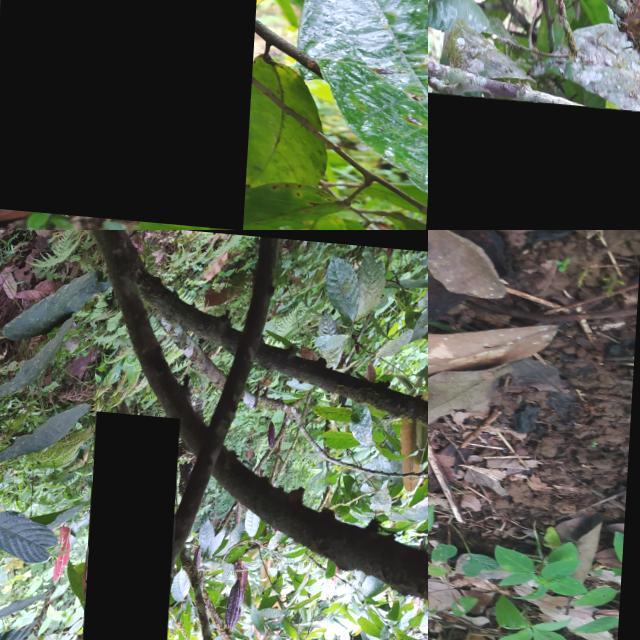Fitoftora: (0, 0, 268, 221), (86, 405, 182, 640), (230, 568, 250, 623)
Monilia: (428, 83, 640, 230)
